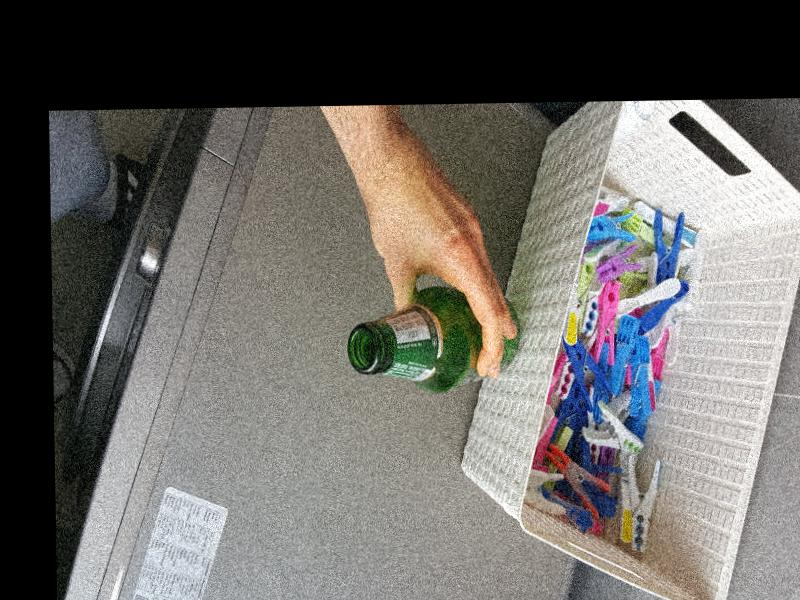Beer: (346, 285, 520, 394)
